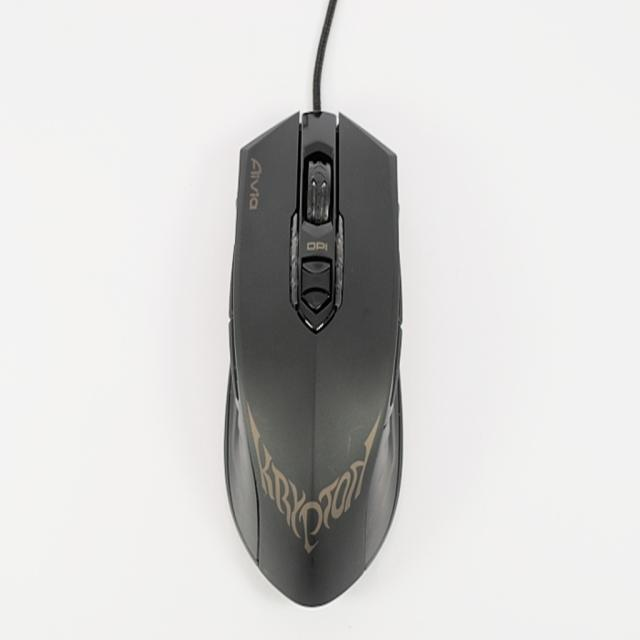Computer-mouse: (223, 104, 402, 606)
